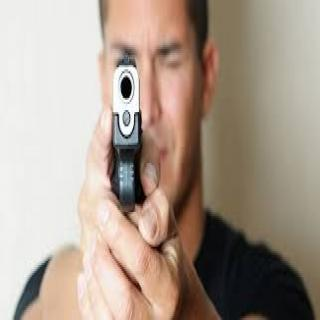gun: (111, 49, 144, 230)
